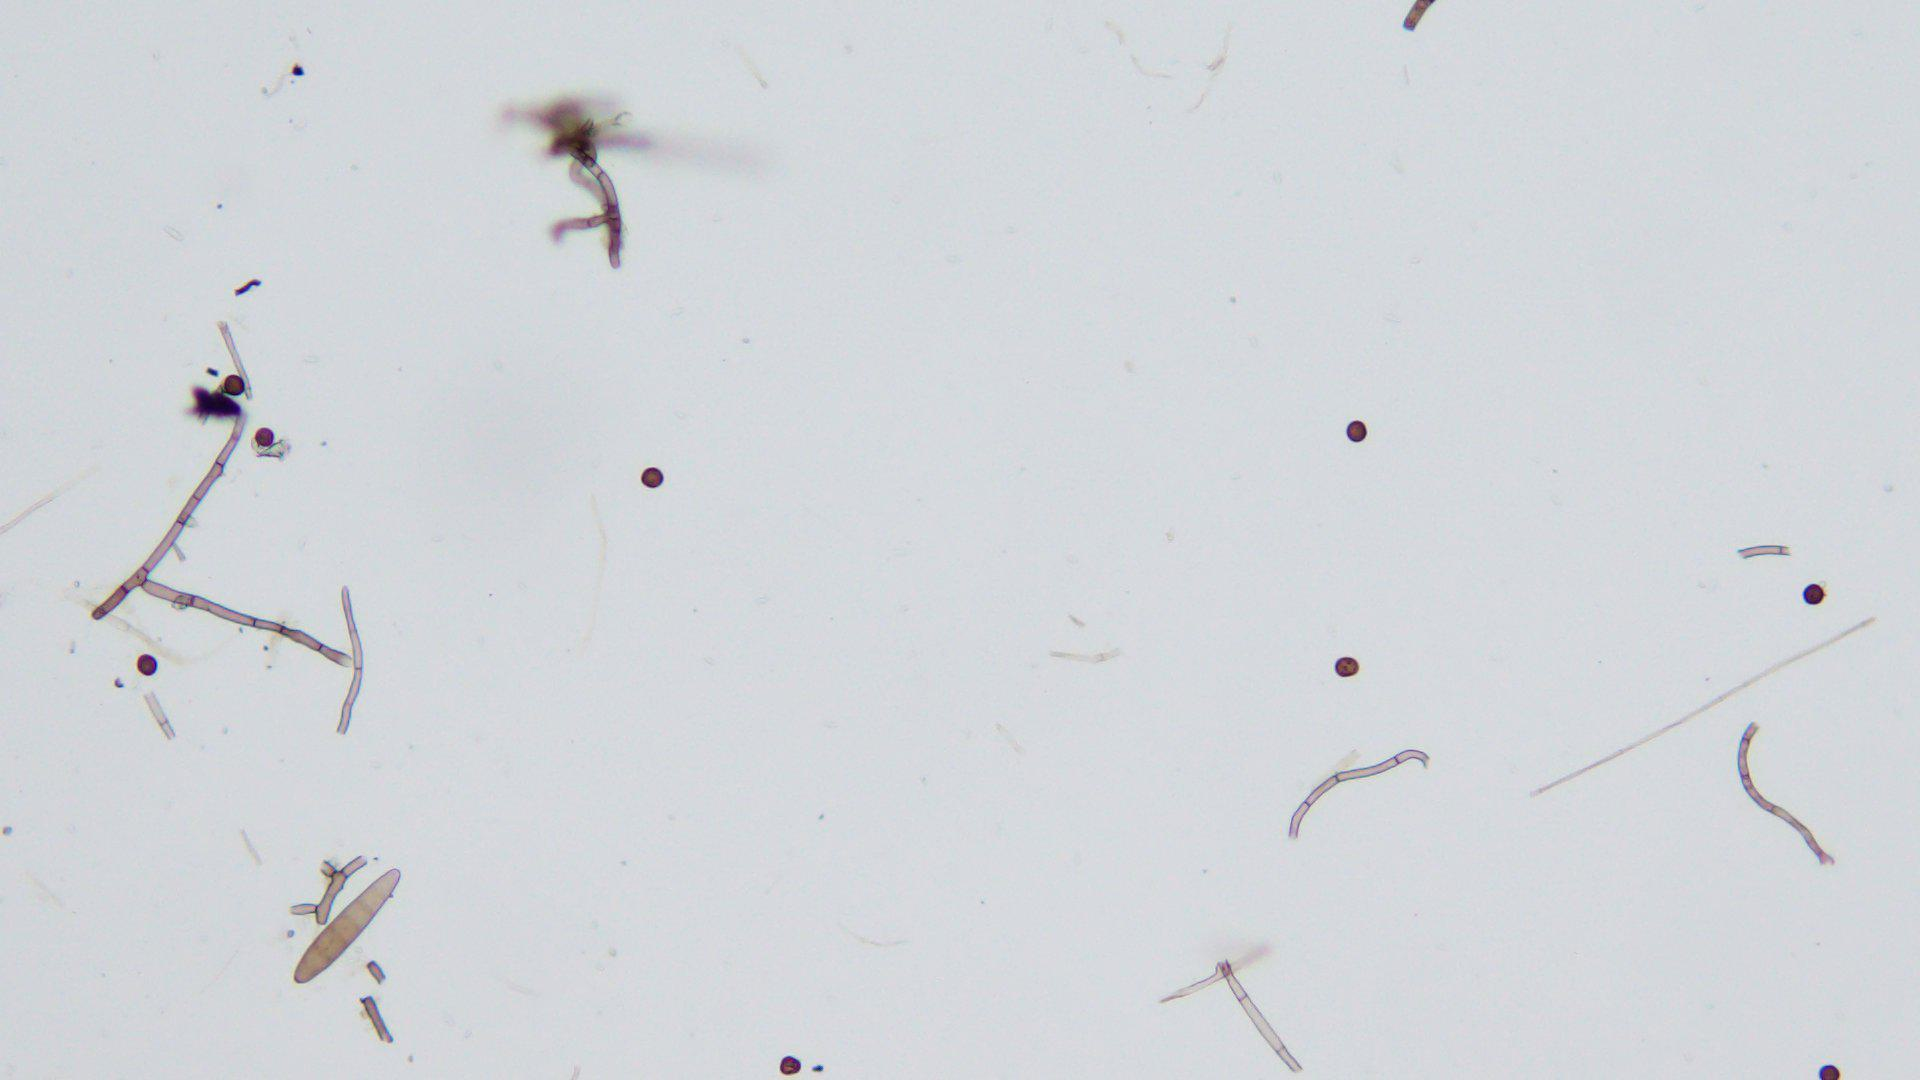dbb_spore: (287, 866, 400, 985)
shs_spore: (638, 465, 665, 491), (775, 1054, 803, 1076), (1335, 655, 1360, 679), (1344, 419, 1367, 444), (136, 653, 158, 676), (222, 375, 245, 396), (252, 427, 276, 448), (1803, 582, 1824, 605), (1817, 1063, 1844, 1080)
